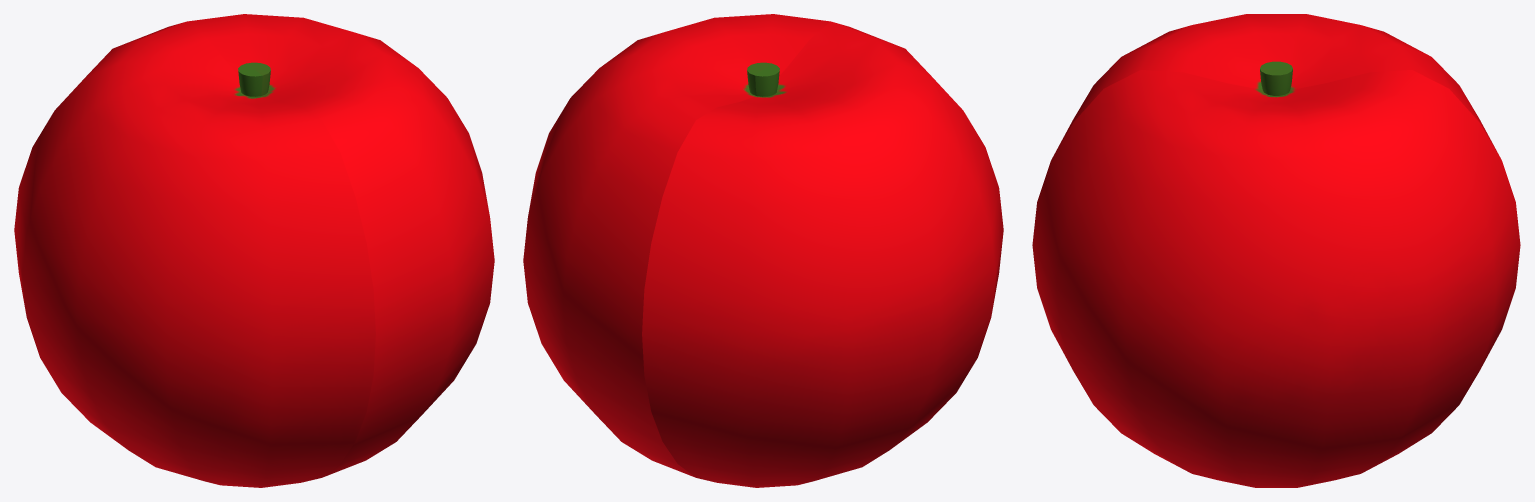
Rendered from Tomate.fbx.
3 renders of one model, left to right at view 1: azimuth 30°, elevation 25°; view 2: azimuth 150°, elevation 25°; view 3: azimuth 270°, elevation 25°, orthographic.
Parts seen in each view (by area): view 1: Tomate0, Tomate1; view 2: Tomate0, Tomate1; view 3: Tomate1, Tomate0.
Boxes of the visible parts, left/top/right/bottom form: Tomate0: left=14, top=21, right=375, bottom=487; Tomate1: left=187, top=14, right=494, bottom=477; Tomate0: left=642, top=21, right=1003, bottom=487; Tomate1: left=523, top=14, right=830, bottom=477; Tomate1: left=1032, top=68, right=1520, bottom=487; Tomate0: left=1052, top=14, right=1500, bottom=157.
Bounding box in the file's own units: 195 × 180 × 200.
